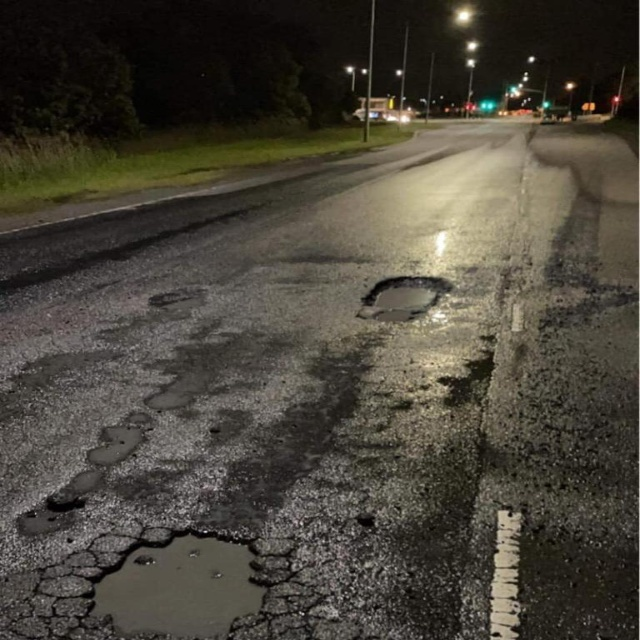pothole: (93, 535, 265, 637), (47, 415, 150, 511), (145, 335, 263, 409), (358, 276, 452, 321), (438, 350, 495, 408)
